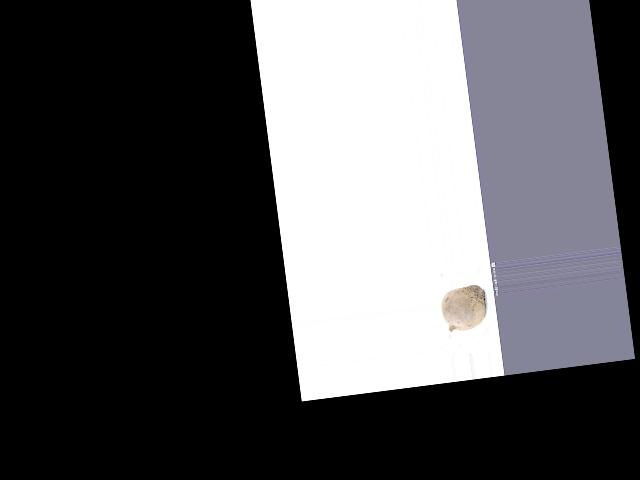beet: (439, 284, 489, 333)
